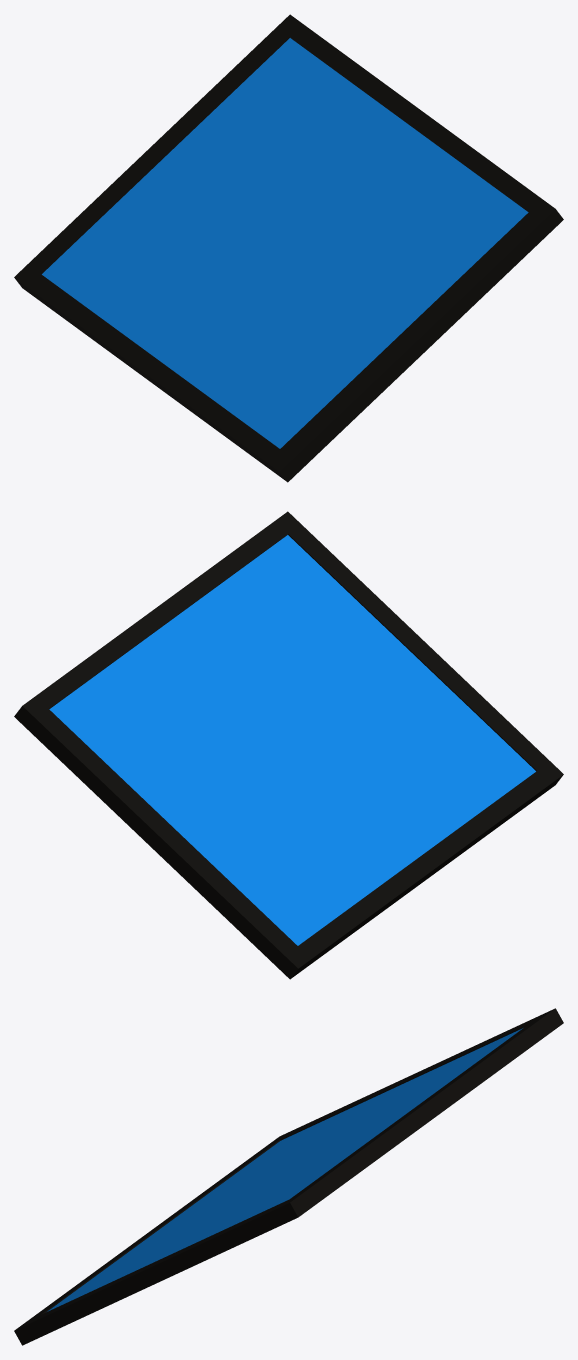
The model's file is GlassHatch.fbx.
3 renders of one model, top to bottom at view 1: azimuth 30°, elevation 25°; view 2: azimuth 150°, elevation 25°; view 3: azimuth 330°, elevation 25°, orthographic.
Parts seen in each view (by area): view 1: GlassHatch; view 2: GlassHatch; view 3: GlassHatch.
Part boxes in pixels (left/top/right/bottom): GlassHatch: left=14, top=14, right=563, bottom=482; GlassHatch: left=14, top=511, right=563, bottom=979; GlassHatch: left=14, top=1008, right=563, bottom=1345.
Size of the model in its own units: 82.2 by 57.57 by 133.
